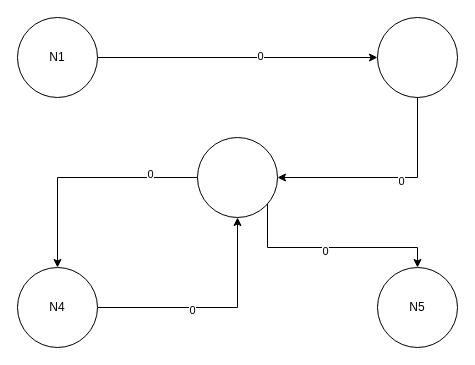
This 475x365 diagram has some shape labels left out. Here are the shapes that lost their labels. From the top down, the centre of each, then its label:
At [417,57]: "N2".
At [237,177]: "N3".
